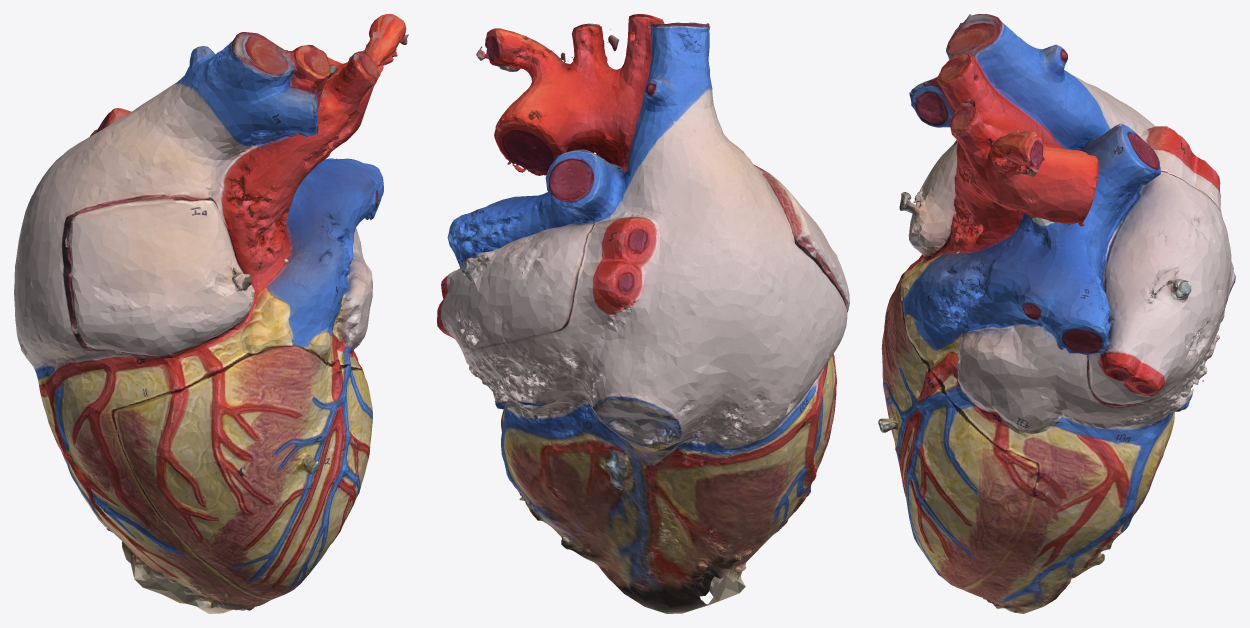
Rendered from coeur_mesh.obj.
3 views of the same model, side by side, from view 1: azimuth 30°, elevation 25°; view 2: azimuth 150°, elevation 25°; view 3: azimuth 270°, elevation 25° (orthographic). The views are drawn at different scales.
Size of the model in its own units: 3.02 by 4.66 by 2.54.
1 material, 1 textured.
